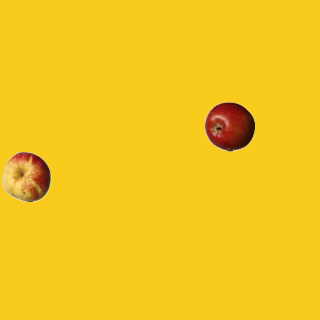Apple Braeburn: (204, 101, 254, 151)
Apple Red Yellow 1: (1, 151, 51, 201)
